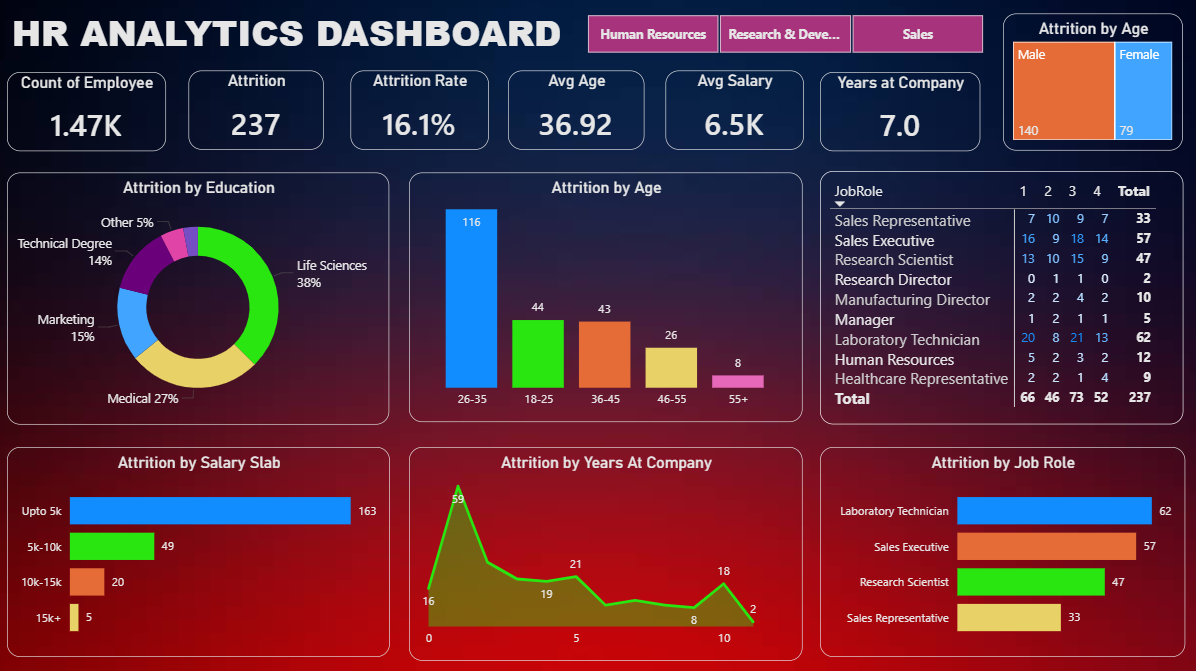

What the dashboard file says about the page in this screenshot:
{"tool":"powerbi","page":{"name":"Page 1","canvas":[1280,720],"ordinal":0},"visuals":[{"type":"cardVisual","title":"Count of Employee","fields":{"Data":["Count(HR_Analytics.EmpID)"]},"box":[19.1,82.7,168.6,84.3],"z":0},{"type":"cardVisual","title":"Attrition","fields":{"Data":["Sum(HR_Analytics.AttritionCount)"]},"box":[211.6,81.1,143.2,84.3],"z":1000},{"type":"cardVisual","title":"Attrition Rate","fields":{"Data":["HR_Analytics.AttritionRate"]},"box":[383.3,81.1,146.3,84.3],"z":2000},{"type":"cardVisual","title":"Avg Age","fields":{"Data":["Avg(HR_Analytics.Age)"]},"box":[550.4,81.1,144.7,84.3],"z":3000},{"type":"cardVisual","title":"Avg Salary","fields":{"Data":["Avg(HR_Analytics.MonthlyIncome)"]},"box":[717.4,81.1,146.3,84.3],"z":4000},{"type":"cardVisual","title":"Years at Company","fields":{"Data":["Avg(HR_Analytics.YearsAtCompany)"]},"box":[881.2,82.7,170.2,84.3],"z":5000},{"type":"donutChart","title":"Attrition by Education","fields":{"Category":["HR_Analytics.EducationField"],"Y":["Sum(HR_Analytics.AttritionCount)"]},"box":[19.1,189.3,405.6,267.2],"z":6000},{"type":"columnChart","title":"Attrition by Age","fields":{"Category":["HR_Analytics.AgeGroup"],"Y":["Sum(HR_Analytics.AttritionCount)"]},"box":[446,189,417.6,264.6],"z":7000},{"type":"pivotTable","fields":{"Rows":["HR_Analytics.JobRole"],"Columns":["HR_Analytics.JobSatisfaction"],"Values":["Sum(HR_Analytics.AttritionCount)"]},"box":[880.6,187.1,385.5,268.3],"z":8000},{"type":"barChart","title":"Attrition by Salary Slab","fields":{"Category":["HR_Analytics.SalarySlab"],"Y":["Sum(HR_Analytics.AttritionCount)"]},"box":[18.9,480,406.3,223],"z":9000},{"type":"barChart","title":"Attrition by Job Role","fields":{"Y":["Sum(HR_Analytics.AttritionCount)"],"Category":["HR_Analytics.JobRole"]},"box":[880.6,480,387.4,223],"z":10000},{"type":"areaChart","title":"Attrition by Years At Company","fields":{"Category":["HR_Analytics.YearsAtCompany"],"Y":["Sum(HR_Analytics.AttritionCount)"]},"box":[446,480,417.6,226.8],"z":11000},{"type":"treemap","title":"Attrition by Age","fields":{"Group":["HR_Analytics.Gender"],"Values":["Sum(HR_Analytics.AttritionCount)"]},"box":[1075.3,20.8,190.9,145.5],"z":12000},{"type":"slicer","fields":{"Values":["HR_Analytics.Department"]},"box":[614.2,20.8,459.2,43.5],"z":12001},{"type":"textbox","box":[18.9,7.6,602.8,81.3],"z":12002}]}

Visuals, with their boxes in screenshot pixels (x1, y1, x2, y2), scaled from the page's 1280x720 canvas onto the 1196x671 screenshot:
"Count of Employee" cardVisual: box(18, 77, 175, 156)
"Attrition" cardVisual: box(198, 76, 332, 154)
"Attrition Rate" cardVisual: box(358, 76, 495, 154)
"Avg Age" cardVisual: box(514, 76, 649, 154)
"Avg Salary" cardVisual: box(670, 76, 807, 154)
"Years at Company" cardVisual: box(823, 77, 982, 156)
"Attrition by Education" donutChart: box(18, 176, 397, 425)
"Attrition by Age" columnChart: box(417, 176, 807, 423)
pivotTable - HR_Analytics.JobRole x HR_Analytics.JobSatisfaction: box(823, 174, 1183, 424)
"Attrition by Salary Slab" barChart: box(18, 447, 397, 655)
"Attrition by Job Role" barChart: box(823, 447, 1185, 655)
"Attrition by Years At Company" areaChart: box(417, 447, 807, 659)
"Attrition by Age" treemap: box(1005, 19, 1183, 155)
slicer - HR_Analytics.Department: box(574, 19, 1003, 60)
textbox: box(18, 7, 581, 83)
